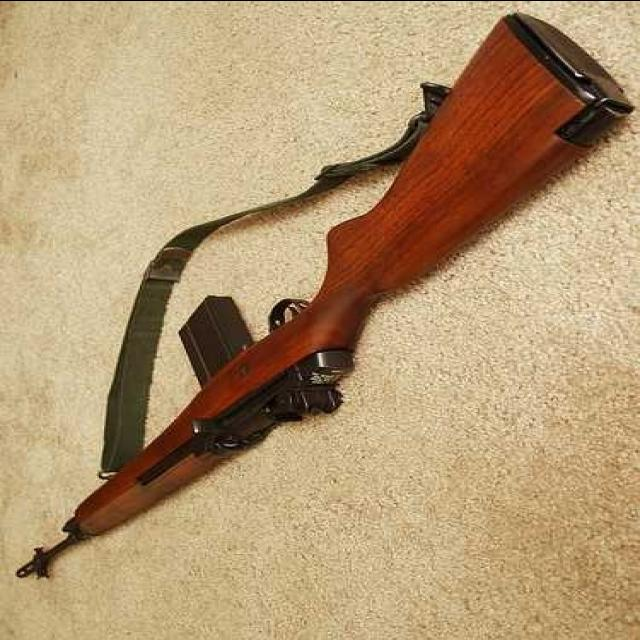heavyweapon: (2, 1, 640, 586)
